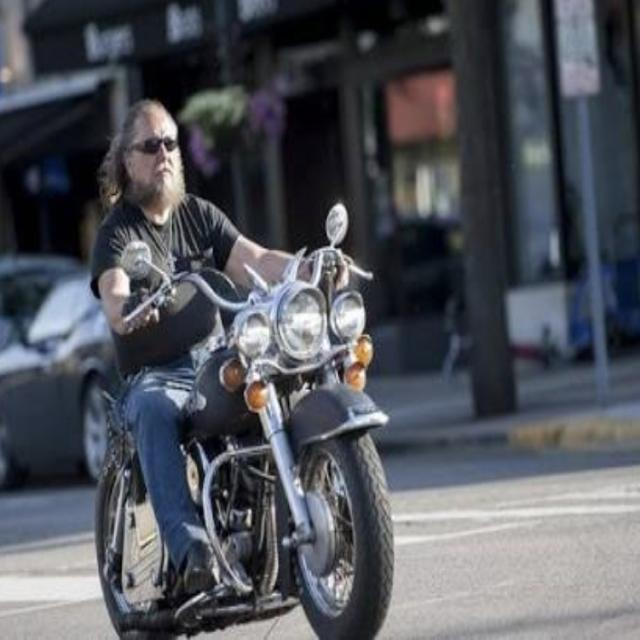WithoutHelmet: (87, 97, 355, 597)
